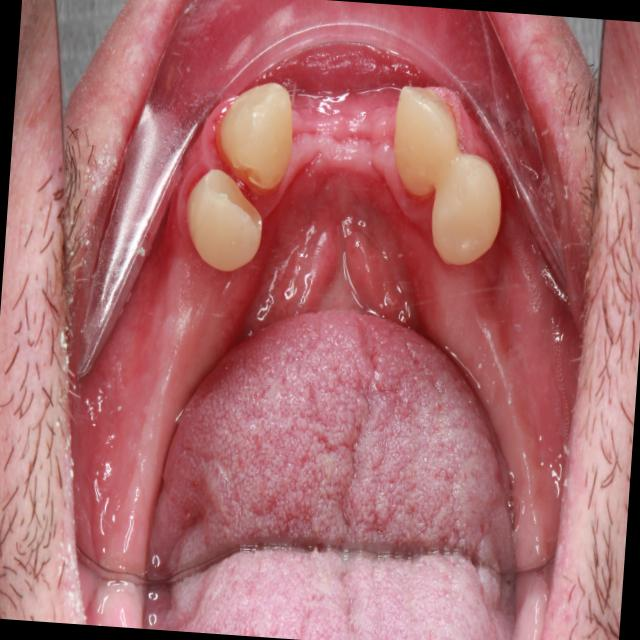tooth: (207, 69, 307, 202), (419, 136, 512, 278), (380, 60, 465, 214), (180, 159, 273, 288)
